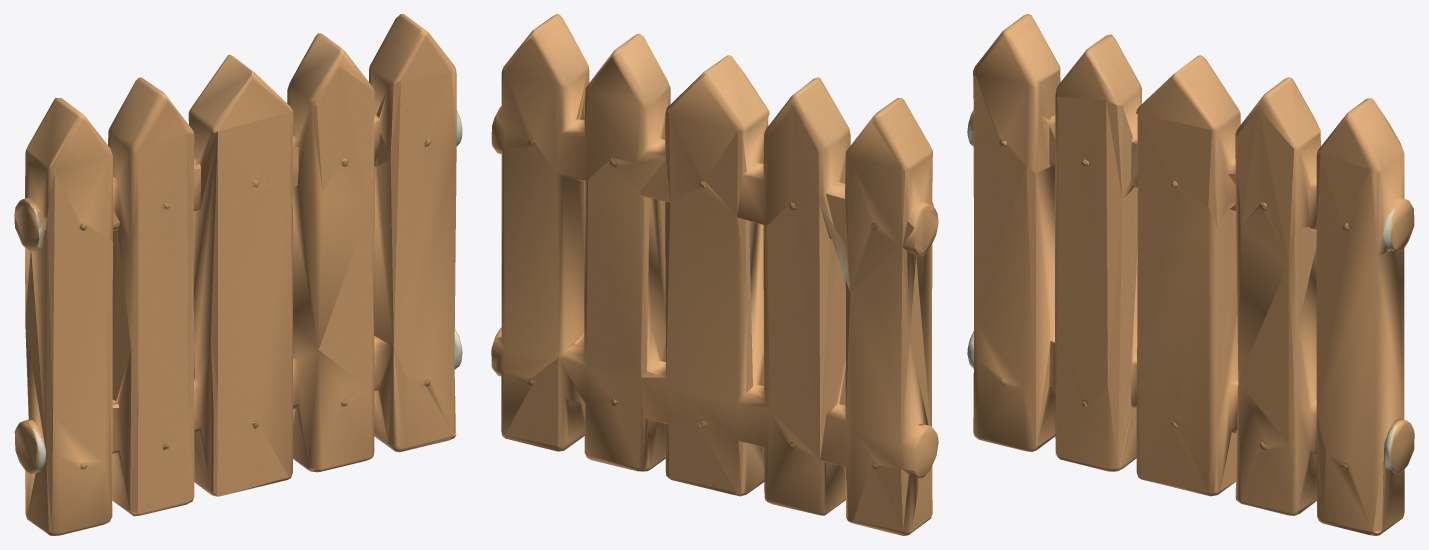
Rendered from fence.fbx.
The picture shows the model from 3 angles, left to right: view 1: azimuth 30°, elevation 25°; view 2: azimuth 150°, elevation 25°; view 3: azimuth 330°, elevation 25°; orthographic projection.
Parts seen in each view (by area): view 1: Mesh_0; view 2: Mesh_0; view 3: Mesh_0.
Part boxes in pixels (box(x1,y1,x2,y2)): Mesh_0: box(14, 14, 462, 535); Mesh_0: box(491, 14, 938, 535); Mesh_0: box(967, 14, 1414, 535).
Size of the model in its own units: 190 by 178 by 23.99.
1 material, 1 textured.
